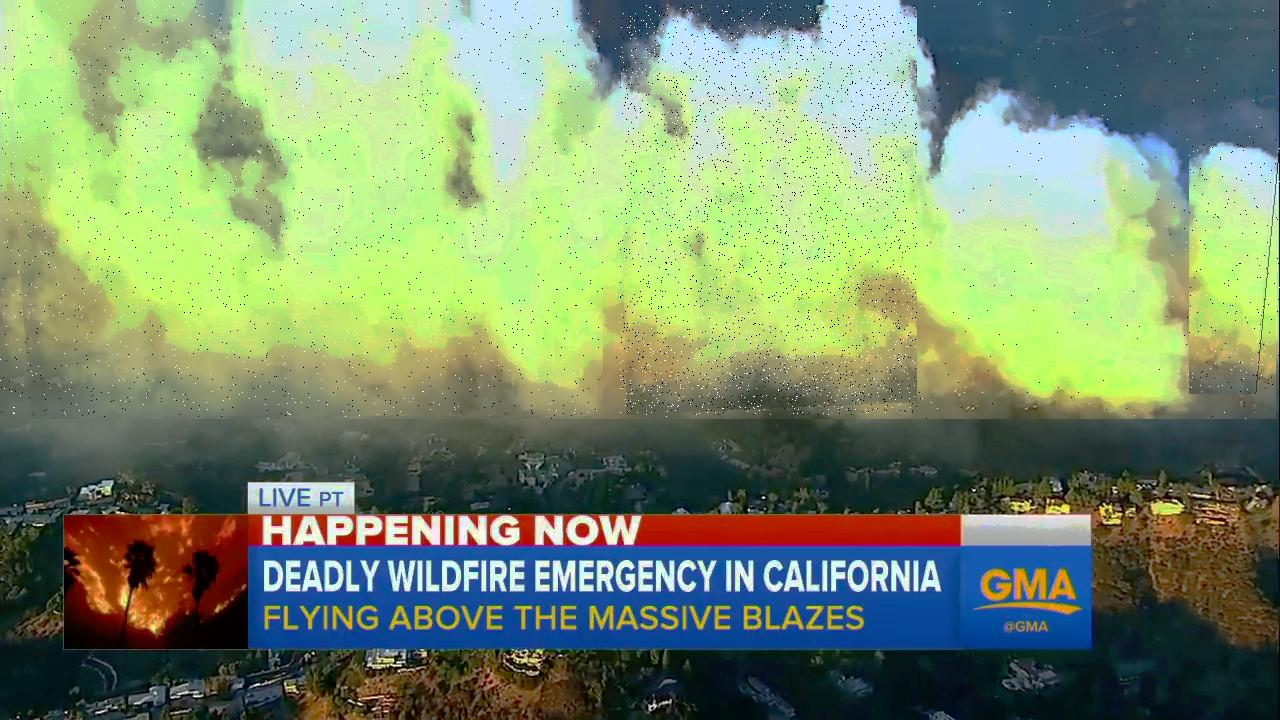smoke: (0, 0, 1276, 419), (0, 3, 603, 416), (620, 5, 917, 415), (921, 74, 1183, 398), (1189, 138, 1280, 394)
